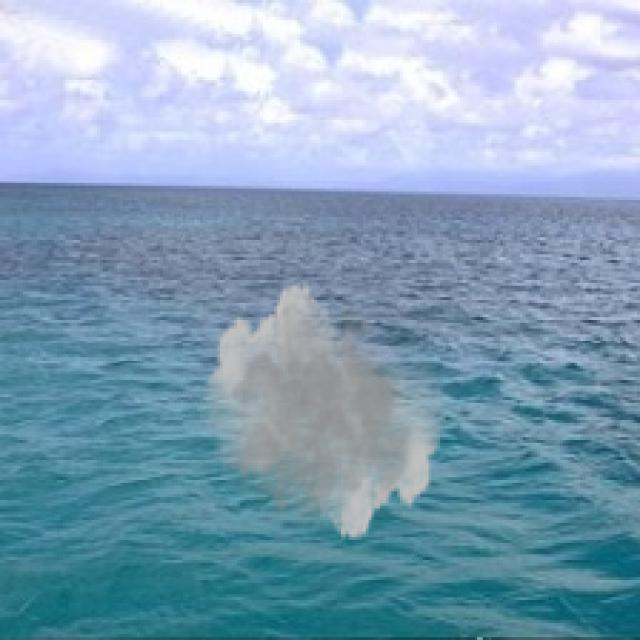smoke: (203, 280, 446, 543)
